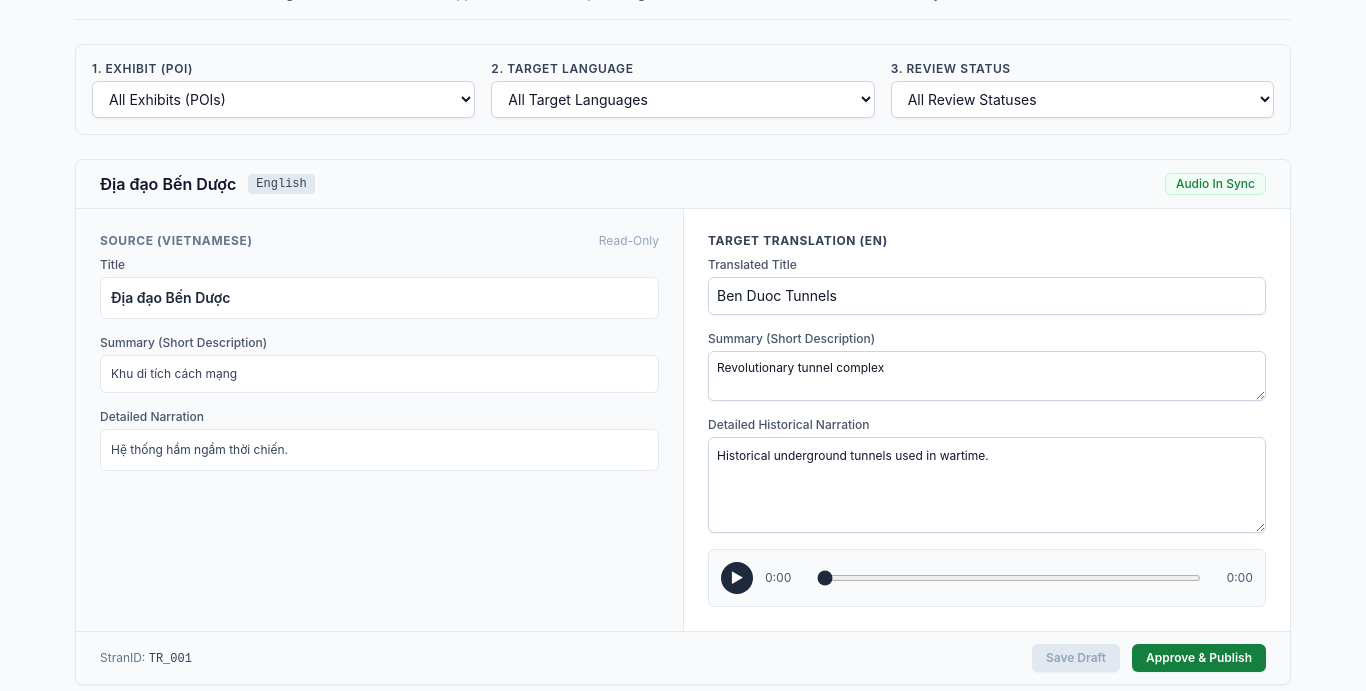
Test case: TranslationAuditView (US 04.1 Multilingual Translation Audit & US 04.3 Publication) › removes published translation from row if active filter is DRAFT (US 04.3)
Select "Draft" in the dropdown with test id "filter-status" at [1082, 100], box x1=891 y1=81 x2=1274 y2=118
(page scrolled)
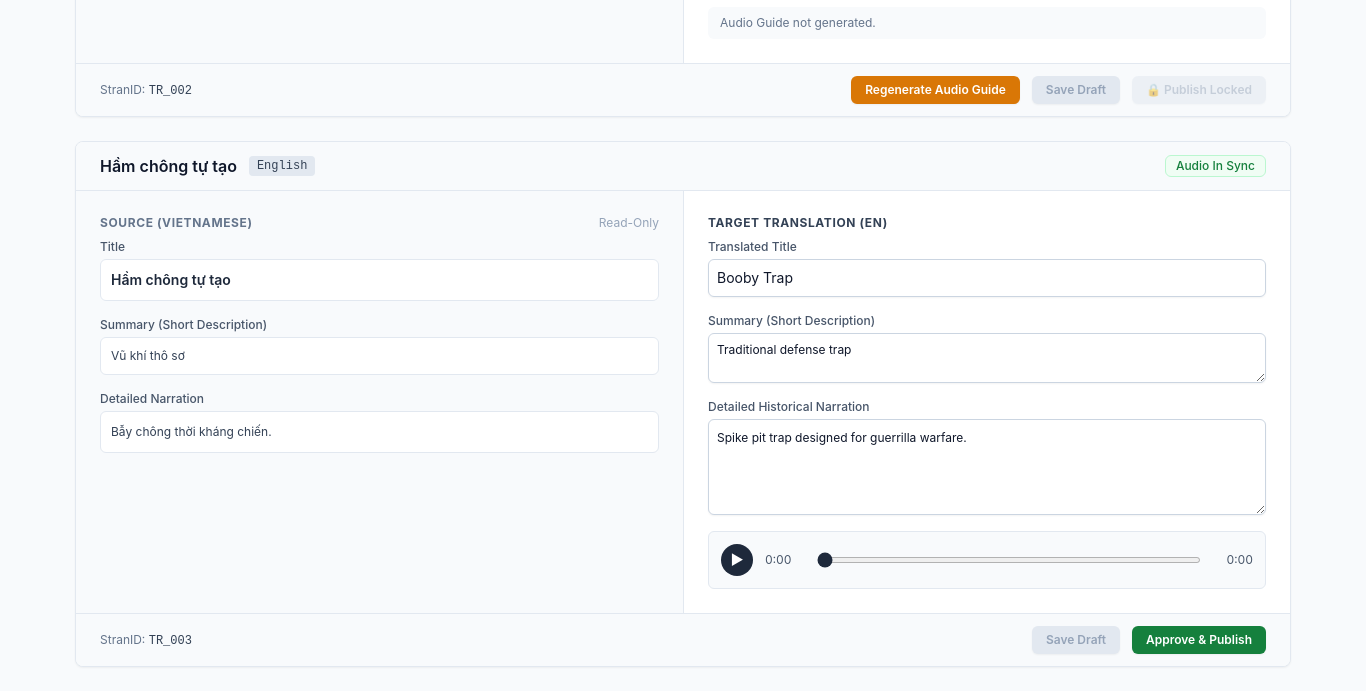
Click the button with test id "publish-btn-TR_003" at [1199, 640], box x1=1132 y1=626 x2=1266 y2=654
(page scrolled)
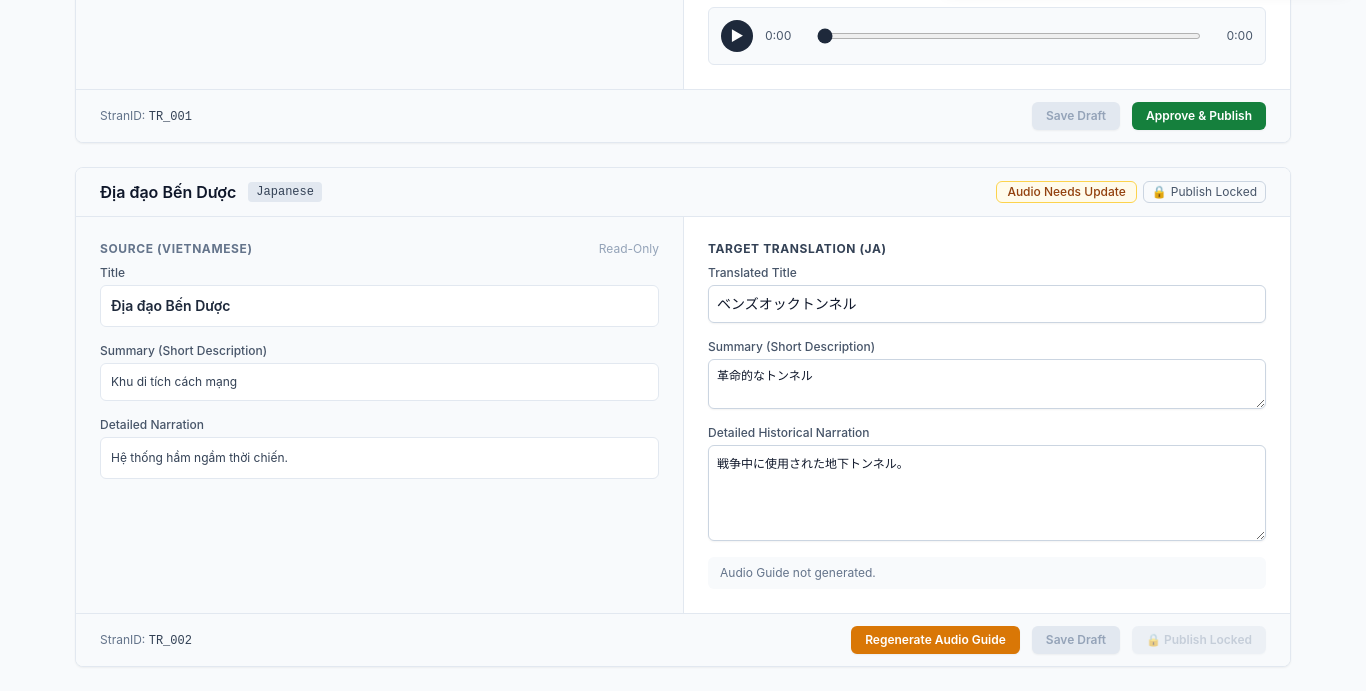
Expected: the element with test id "translation-row-TR_003" is gone
